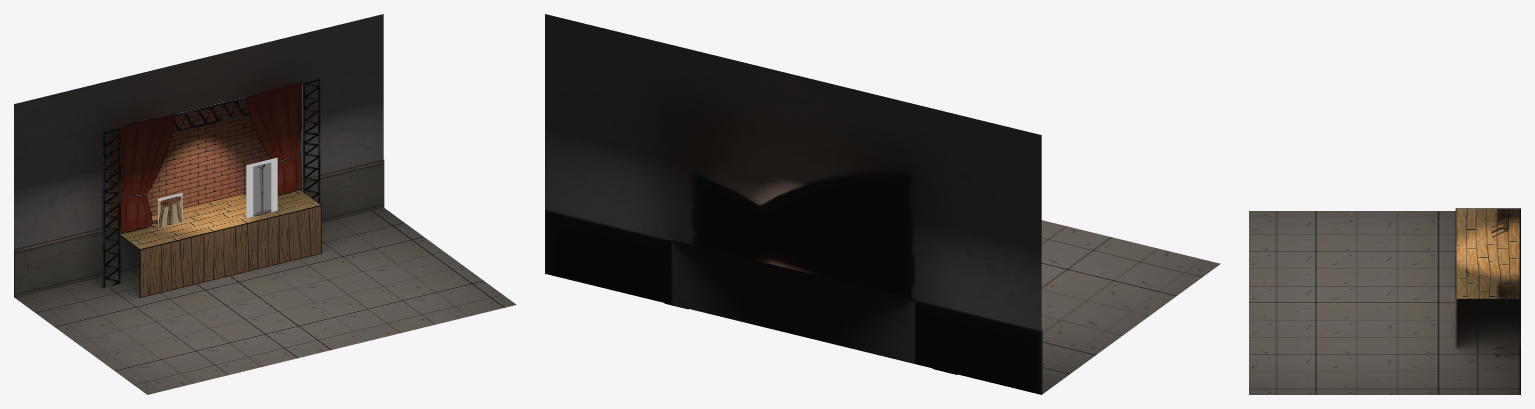
Rendered from Escenario_Baked_6.fbx.
The picture shows the model from 3 angles, left to right: view 1: azimuth 30°, elevation 25°; view 2: azimuth 150°, elevation 25°; view 3: azimuth 270°, elevation 25°; orthographic projection. The views are drawn at different scales.
Visible parts, largest first — view 1: Plane, Plane.001, Plane.002, Plane.007, Plane.023, Plane.008, Plane.009, Plane.003, Plane.024, Plane.005, Plane.022, Plane.006 (+2 smaller); view 2: Plane.001, Plane; view 3: Plane, Plane.003.
Boxes of the visible parts, x1,y1,x2,y2 form: Plane: [14, 208, 516, 394]; Plane.001: [14, 14, 383, 297]; Plane.002: [139, 205, 321, 297]; Plane.007: [108, 100, 271, 226]; Plane.023: [15, 228, 108, 297]; Plane.008: [120, 114, 175, 232]; Plane.009: [246, 83, 301, 195]; Plane.003: [108, 189, 321, 249]; Plane.024: [300, 159, 384, 222]; Plane.005: [102, 128, 120, 288]; Plane.022: [246, 157, 277, 218]; Plane.006: [302, 79, 320, 203]; Plane.001: [545, 14, 1041, 394]; Plane: [1041, 220, 1220, 394]; Plane: [1249, 211, 1520, 394]; Plane.003: [1455, 208, 1520, 298].
Bounding box in the file's own units: 800 × 427 × 500.
